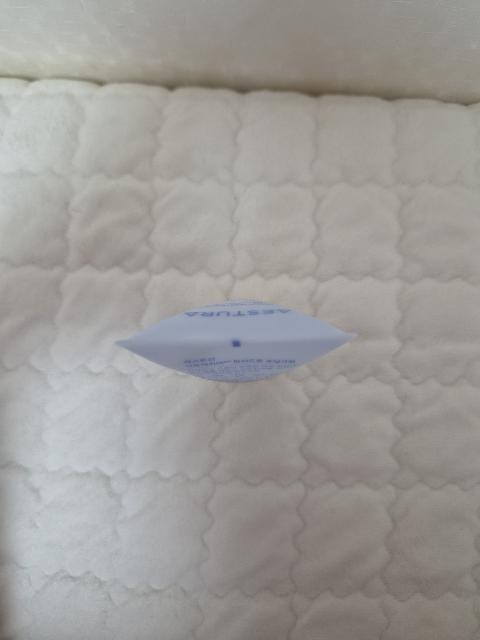handcream: (114, 298, 358, 383)
